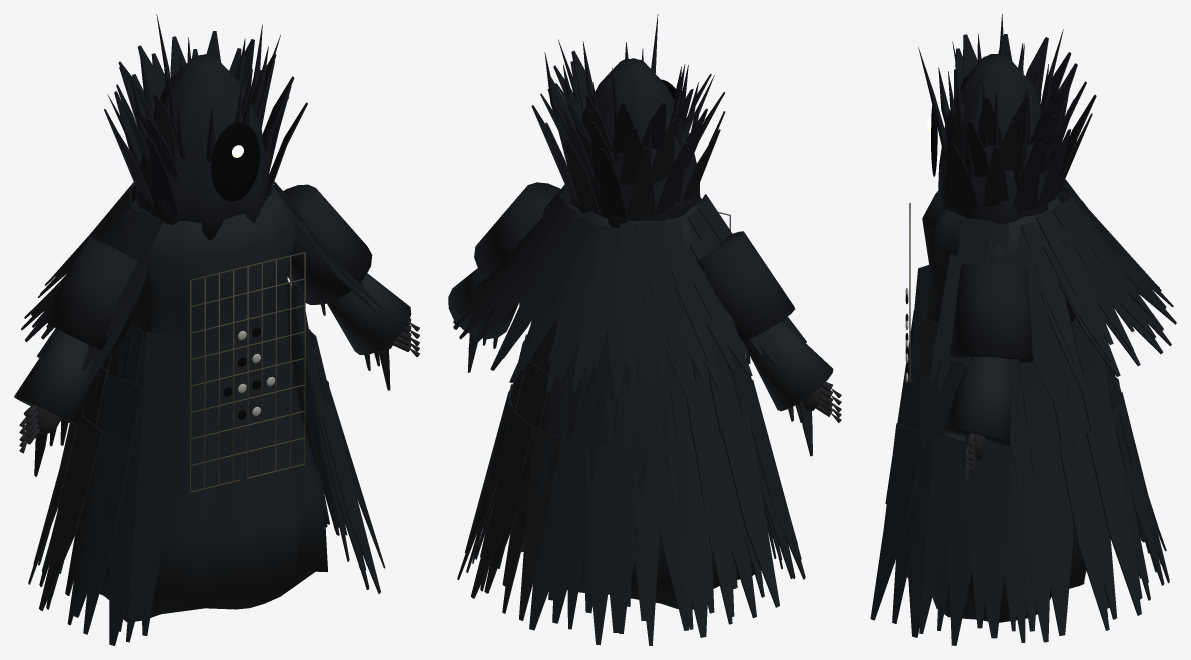
Rendered from observer_will.glb.
The picture shows the model from 3 angles, left to right: view 1: azimuth 30°, elevation 25°; view 2: azimuth 150°, elevation 25°; view 3: azimuth 270°, elevation 25°; orthographic projection. The views are drawn at different scales.
Visible parts, largest first — view 1: ObserverWill_Export_ObserverWill_Cloth, ObserverWill_Export_ObserverWill_CharredRidges, ObserverWill_Export_ObserverWill_AgedGrid, ObserverWill_Export_ObserverWill_FaceVoid, ObserverWill_Export_ObserverWill_Hands; view 2: ObserverWill_Export_ObserverWill_Cloth, ObserverWill_Export_ObserverWill_CharredRidges, ObserverWill_Export_ObserverWill_Hands; view 3: ObserverWill_Export_ObserverWill_Cloth, ObserverWill_Export_ObserverWill_CharredRidges, ObserverWill_Export_ObserverWill_Hands, ObserverWill_Export_ObserverWill_FaceVoid.
Boxes of the visible parts, <box> form: ObserverWill_Export_ObserverWill_Cloth: <box>14,186,411,645</box>; ObserverWill_Export_ObserverWill_CharredRidges: <box>21,14,383,391</box>; ObserverWill_Export_ObserverWill_AgedGrid: <box>190,252,305,492</box>; ObserverWill_Export_ObserverWill_FaceVoid: <box>211,122,260,419</box>; ObserverWill_Export_ObserverWill_Hands: <box>19,318,419,453</box>; ObserverWill_Export_ObserverWill_Cloth: <box>448,187,833,645</box>; ObserverWill_Export_ObserverWill_CharredRidges: <box>455,14,806,399</box>; ObserverWill_Export_ObserverWill_Hands: <box>453,320,841,423</box>; ObserverWill_Export_ObserverWill_Cloth: <box>870,189,1169,645</box>; ObserverWill_Export_ObserverWill_CharredRidges: <box>918,14,1176,399</box>; ObserverWill_Export_ObserverWill_Hands: <box>963,433,986,482</box>; ObserverWill_Export_ObserverWill_FaceVoid: <box>905,105,937,373</box>.
Size of the model in its own units: 2.45 by 3.23 by 1.65.
